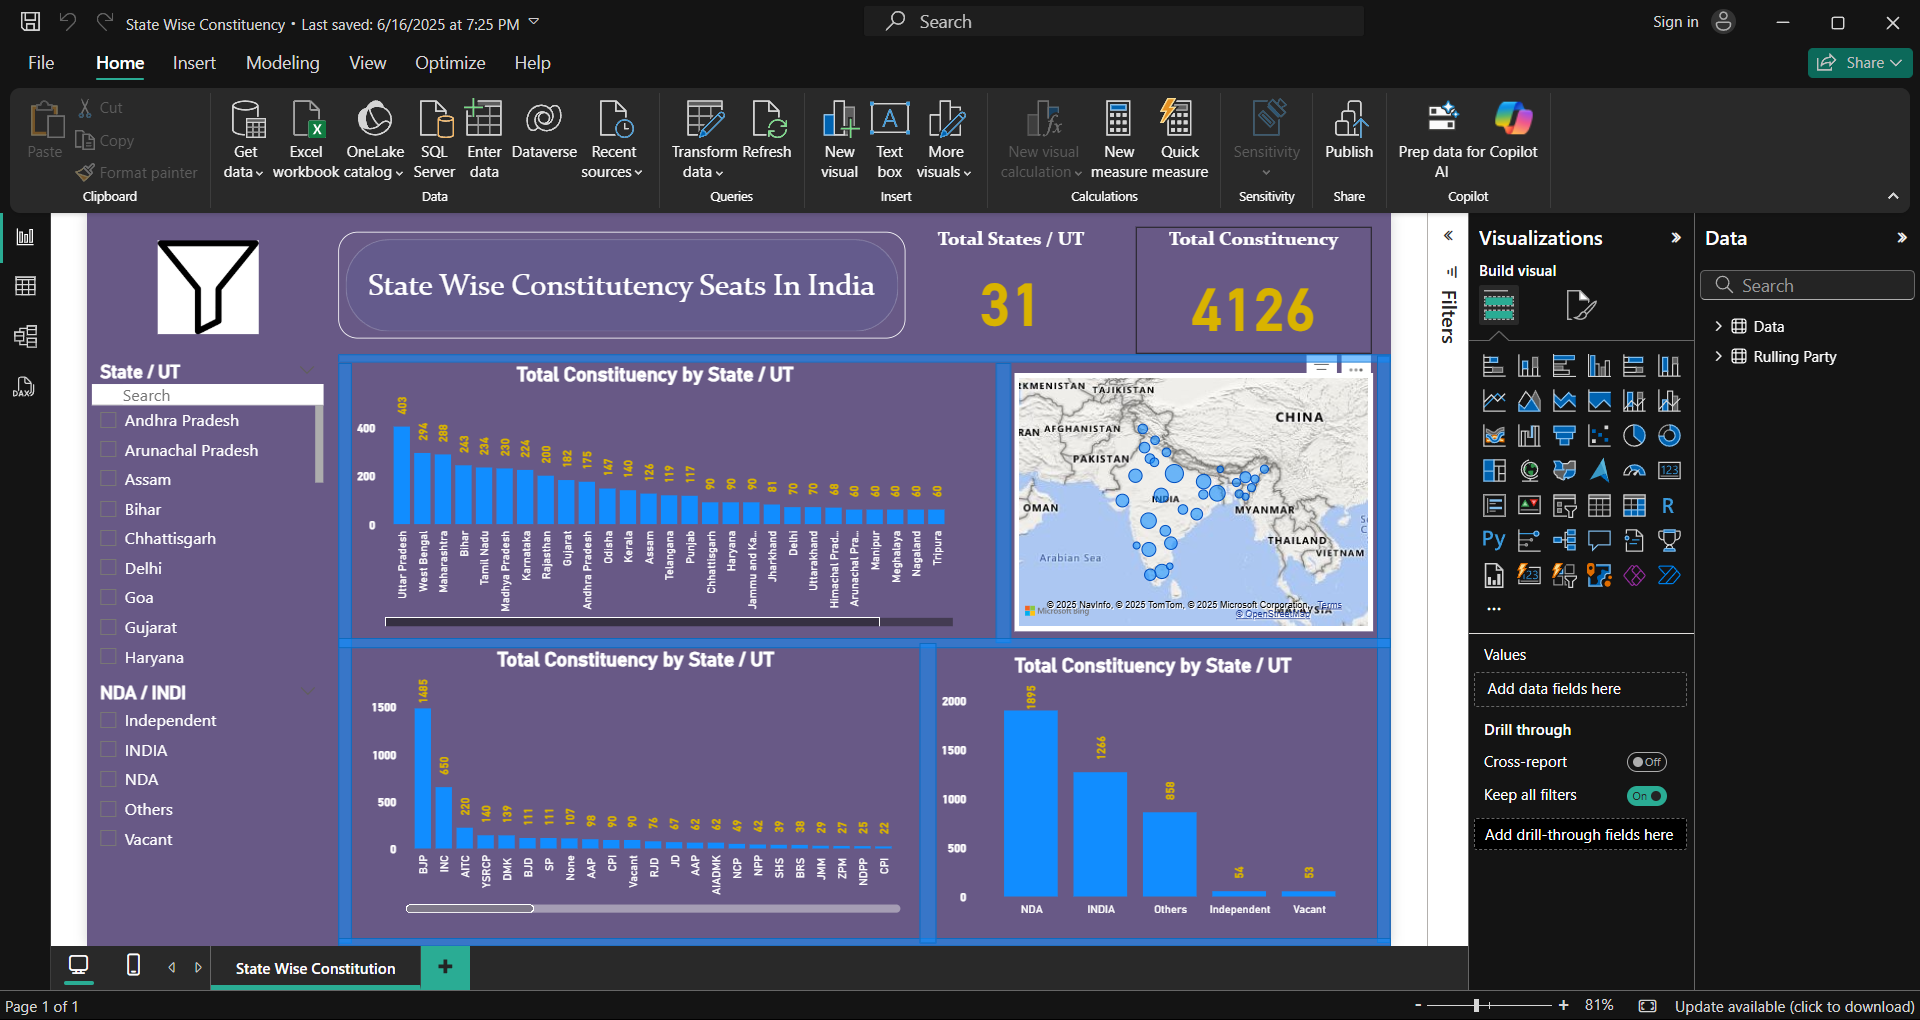

The dashboard page shown, as its layout file describes it:
{"tool":"powerbi","page":{"name":"State Wise Constitution","canvas":[1280,720],"ordinal":0},"visuals":[{"type":"card","title":"Total States / UT","fields":{"Values":["Data.Count"]},"box":[803.3,13.3,206.7,116.7],"z":0},{"type":"card","title":"Total Constituency","fields":{"Values":["Sum(Data.Total Constituency)"]},"box":[1029.4,13.7,231.4,125.5],"z":1000},{"type":"clusteredColumnChart","title":"Total Constituency by State / UT","fields":{"Y":["Sum(Data.Total Constituency)"],"Category":["Data.State / UT"]},"box":[260,146.7,595,263.3],"z":2000},{"type":"map","fields":{"Category":["Data.State / UT"],"Size":["Sum(Data.Total Constituency)"]},"box":[910,156.7,351.7,253.3],"z":3000},{"type":"clusteredColumnChart","title":"Total Constituency by State / UT","fields":{"Y":["Sum(Data.Total Constituency)"],"Category":["Data.Party"]},"box":[273.3,426.7,530,265],"z":4000},{"type":"clusteredColumnChart","title":"Total Constituency by State / UT","fields":{"Y":["Sum(Data.Total Constituency)"],"Category":["Data.NDA / INDI"]},"box":[833.3,433.3,426.7,265],"z":5000},{"type":"slicer","fields":{"Values":["Data.State / UT"]},"box":[0,140,236.7,315],"z":6000},{"type":"slicer","fields":{"Values":["Data.NDA / INDI"]},"box":[0,454.9,237.3,264.7],"z":7000},{"type":"shape","box":[246.7,138.3,1033.3,8.3],"z":8000},{"type":"shape","box":[246.7,146.7,13.3,570],"z":9000},{"type":"shape","box":[891.7,146.7,15,275],"z":10000},{"type":"shape","box":[1266.7,140,13.3,576.7],"z":11000},{"type":"shape","box":[246.7,711.7,1033.3,8.3],"z":12000},{"type":"shape","box":[246.7,416.7,1033.3,10],"z":13000},{"type":"shape","box":[816.7,421.7,16.7,295],"z":14000},{"type":"shape","box":[246.7,18.3,556.7,105],"z":15000},{"type":"image","box":[63.3,21.7,110,101.7],"z":16000}]}

Visuals, with their boxes on the page's 1280x720 design canvas (x1, y1, x2, y2). These are canvas units, not pixel positions in the 1920x1020 screenshot, which may show the page scaled, cropped or inside an application window:
"Total States / UT" card: x1=803, y1=13, x2=1010, y2=130
"Total Constituency" card: x1=1029, y1=14, x2=1261, y2=139
"Total Constituency by State / UT" clusteredColumnChart: x1=260, y1=147, x2=855, y2=410
map - Data.State / UT x Sum(Data.Total Constituency): x1=910, y1=157, x2=1262, y2=410
"Total Constituency by State / UT" clusteredColumnChart: x1=273, y1=427, x2=803, y2=692
"Total Constituency by State / UT" clusteredColumnChart: x1=833, y1=433, x2=1260, y2=698
slicer - Data.State / UT: x1=0, y1=140, x2=237, y2=455
slicer - Data.NDA / INDI: x1=0, y1=455, x2=237, y2=720
shape: x1=247, y1=138, x2=1280, y2=147
shape: x1=247, y1=147, x2=260, y2=717
shape: x1=892, y1=147, x2=907, y2=422
shape: x1=1267, y1=140, x2=1280, y2=717
shape: x1=247, y1=712, x2=1280, y2=720
shape: x1=247, y1=417, x2=1280, y2=427
shape: x1=817, y1=422, x2=833, y2=717
shape: x1=247, y1=18, x2=803, y2=123
image: x1=63, y1=22, x2=173, y2=123
